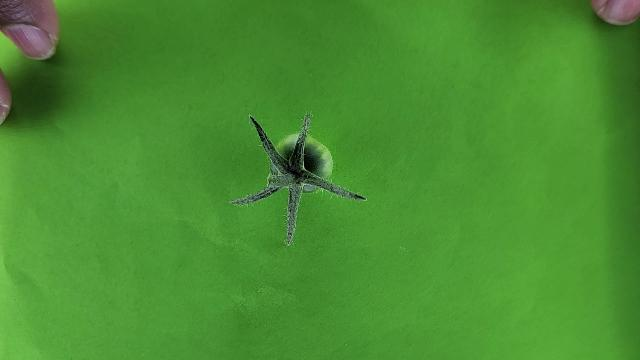Fruit Maturation: (272, 132, 335, 191)
